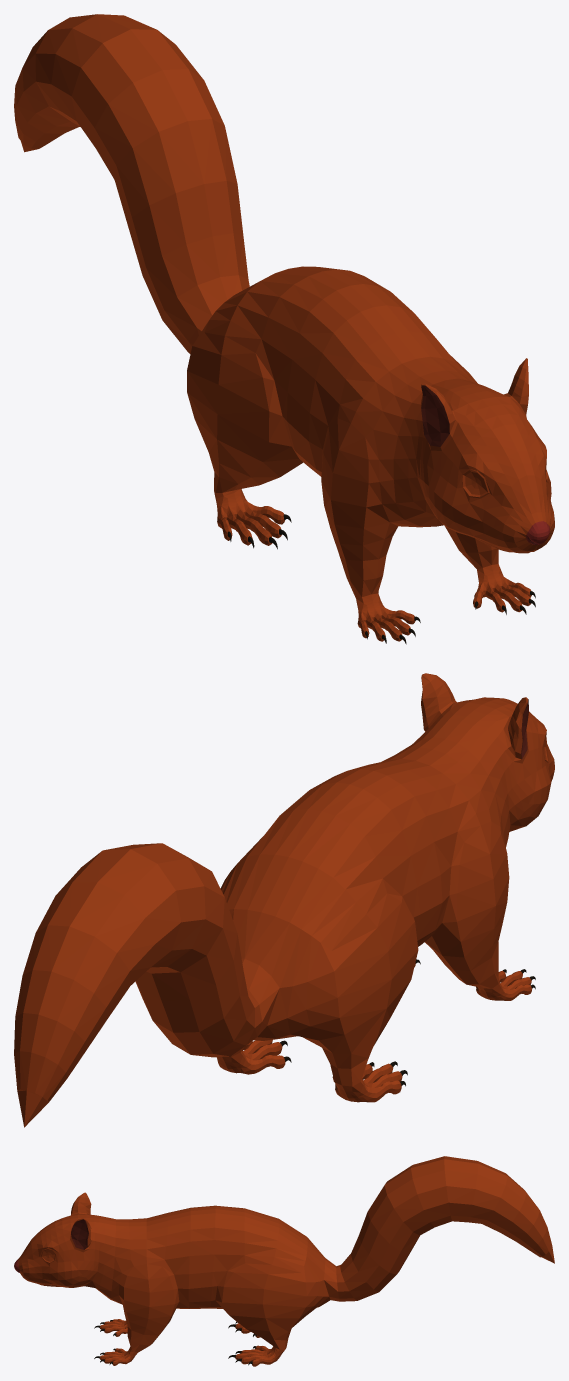
File: squirrel_squirrel_triangulated.obj
3 views of the same model, one above another, from view 1: azimuth 30°, elevation 25°; view 2: azimuth 150°, elevation 25°; view 3: azimuth 270°, elevation 25° (orthographic). The views are drawn at different scales.
Bounding box in the file's own units: 0.0734 × 0.1424 × 0.375.
